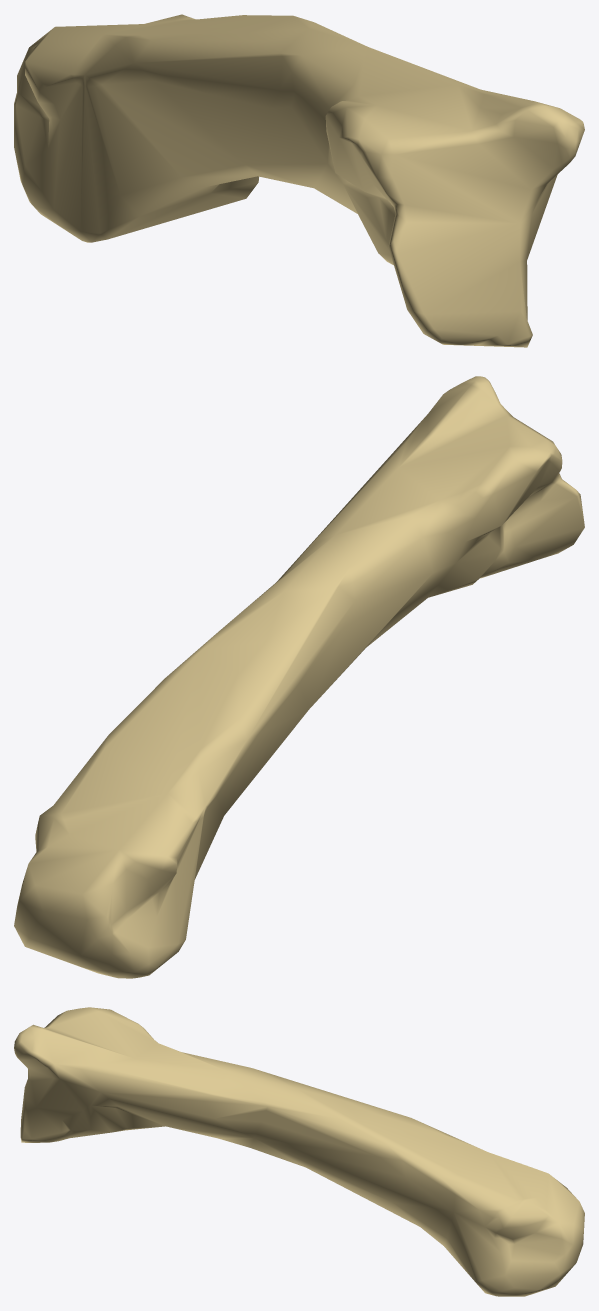
The picture shows the model from 3 angles, top to bottom: view 1: azimuth 30°, elevation 25°; view 2: azimuth 150°, elevation 25°; view 3: azimuth 270°, elevation 25°; orthographic projection. The views are drawn at different scales.
Visible parts, largest first — view 1: 左侧第三掌骨; view 2: 左侧第三掌骨; view 3: 左侧第三掌骨.
Boxes of the visible parts, x1=… form: 左侧第三掌骨: x1=14, y1=14, x2=584, y2=347; 左侧第三掌骨: x1=14, y1=376, x2=584, y2=978; 左侧第三掌骨: x1=14, y1=1007, x2=584, y2=1296.
Bounding box in the file's own units: 0.0306 × 0.0467 × 0.0983.
